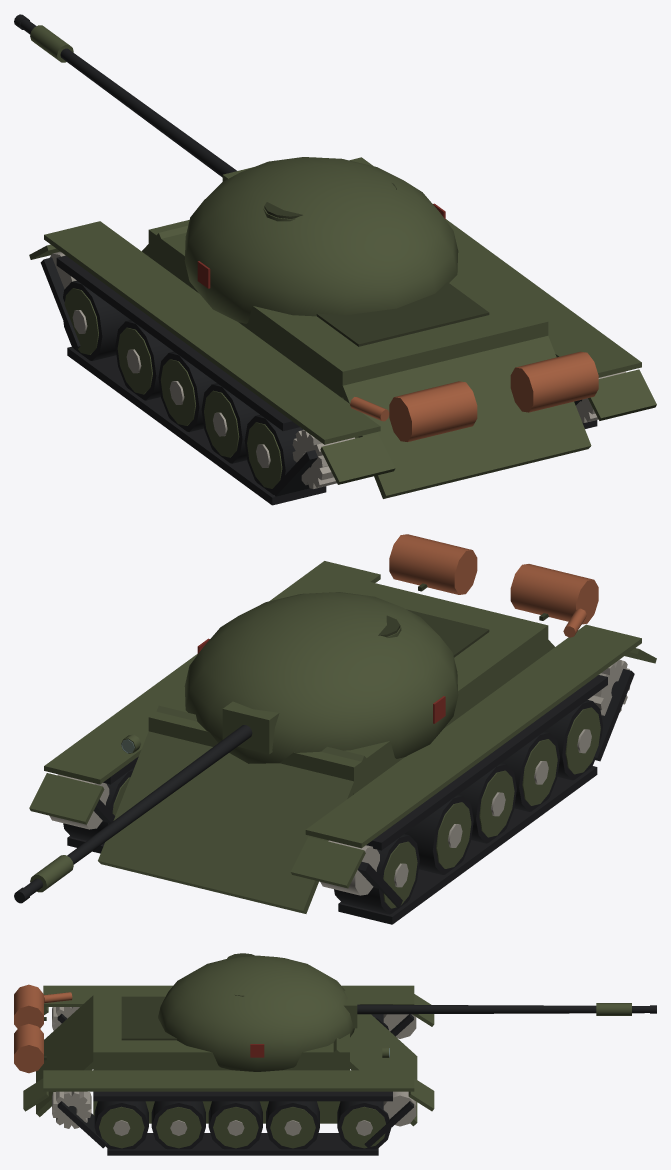
File: t-54-main-battle.glb
The picture shows the model from 3 angles, top to bottom: view 1: azimuth 30°, elevation 25°; view 2: azimuth 150°, elevation 25°; view 3: azimuth 270°, elevation 25°; orthographic projection. The views are drawn at different scales.
Parts seen in each view (by area): view 1: Mesh_TurretDome, Mesh_RearSlope, Mesh_FenderL, Mesh_UpperDeck, Mesh_FenderR, Mesh_RadiatorGrille, Mesh_TrackTop_L, Mesh_FuelDrumR, Mesh_FuelDrumL, Mesh_TrackBottom_L, Mesh_BarrelMain, Mesh_MudflapRL (+15 smaller); view 2: Mesh_TurretDome, Mesh_GlacisPlate, Mesh_FenderL, Mesh_UpperDeck, Mesh_FenderR, Mesh_TrackTop_L, Mesh_TrackBottom_L, Mesh_FuelDrumR, Mesh_FuelDrumL, Mesh_BarrelMain, Mesh_MudflapFR, Mesh_MudflapFL (+19 smaller); view 3: Mesh_TurretDome, Mesh_FenderR, Mesh_UpperDeck, Mesh_TrackTop_R, Mesh_TrackBottom_R, Mesh_RearSlope, Mesh_GlacisPlate, Mesh_BarrelMain, Mesh_FenderL, Mesh_RadiatorGrille, Mesh_FuelDrumR, Mesh_WheelRim_Inst_3 (+21 smaller).
Part boxes in pixels (bbox=[...]): Mesh_TurretDome: bbox=[184, 157, 458, 323]; Mesh_RearSlope: bbox=[337, 336, 591, 498]; Mesh_FenderL: bbox=[44, 221, 380, 444]; Mesh_UpperDeck: bbox=[148, 220, 548, 398]; Mesh_FenderR: bbox=[349, 157, 641, 377]; Mesh_RadiatorGrille: bbox=[316, 282, 489, 346]; Mesh_TrackTop_L: bbox=[56, 255, 299, 431]; Mesh_FuelDrumR: bbox=[510, 351, 598, 412]; Mesh_FuelDrumL: bbox=[389, 381, 477, 441]; Mesh_TrackBottom_L: bbox=[67, 346, 326, 505]; Mesh_BarrelMain: bbox=[20, 19, 236, 177]; Mesh_MudflapRL: bbox=[320, 433, 395, 484]; Mesh_TurretDome: bbox=[184, 592, 458, 763]; Mesh_GlacisPlate: bbox=[98, 705, 366, 913]; Mesh_FenderL: bbox=[305, 624, 641, 848]; Mesh_UpperDeck: bbox=[148, 575, 548, 794]; Mesh_FenderR: bbox=[44, 561, 380, 784]; Mesh_TrackTop_L: bbox=[366, 675, 607, 850]; Mesh_TrackBottom_L: bbox=[338, 766, 597, 924]; Mesh_FuelDrumR: bbox=[389, 534, 477, 594]; Mesh_FuelDrumL: bbox=[510, 564, 598, 624]; Mesh_BarrelMain: bbox=[15, 725, 252, 902]; Mesh_MudflapFR: bbox=[29, 773, 104, 824]; Mesh_MudflapFL: bbox=[291, 836, 365, 888]; Mesh_TurretDome: bbox=[158, 955, 354, 1071]; Mesh_FenderR: bbox=[43, 1070, 414, 1091]; Mesh_UpperDeck: bbox=[93, 986, 349, 1070]; Mesh_TrackTop_R: bbox=[93, 1091, 392, 1101]; Mesh_TrackBottom_R: bbox=[107, 1133, 378, 1155]; Mesh_RearSlope: bbox=[36, 995, 99, 1116]; Mesh_GlacisPlate: bbox=[333, 1002, 417, 1126]; Mesh_BarrelMain: bbox=[357, 1004, 649, 1014]; Mesh_FenderL: bbox=[43, 985, 414, 1006]; Mesh_RadiatorGrille: bbox=[121, 996, 176, 1040]; Mesh_FuelDrumR: bbox=[14, 1024, 43, 1073]; Mesh_WheelRim_Inst_3: bbox=[99, 1106, 144, 1148].
Bounding box in the file's own units: 3.48 × 2.1 × 9.01.
Materials: 2 (2 with a texture image).
